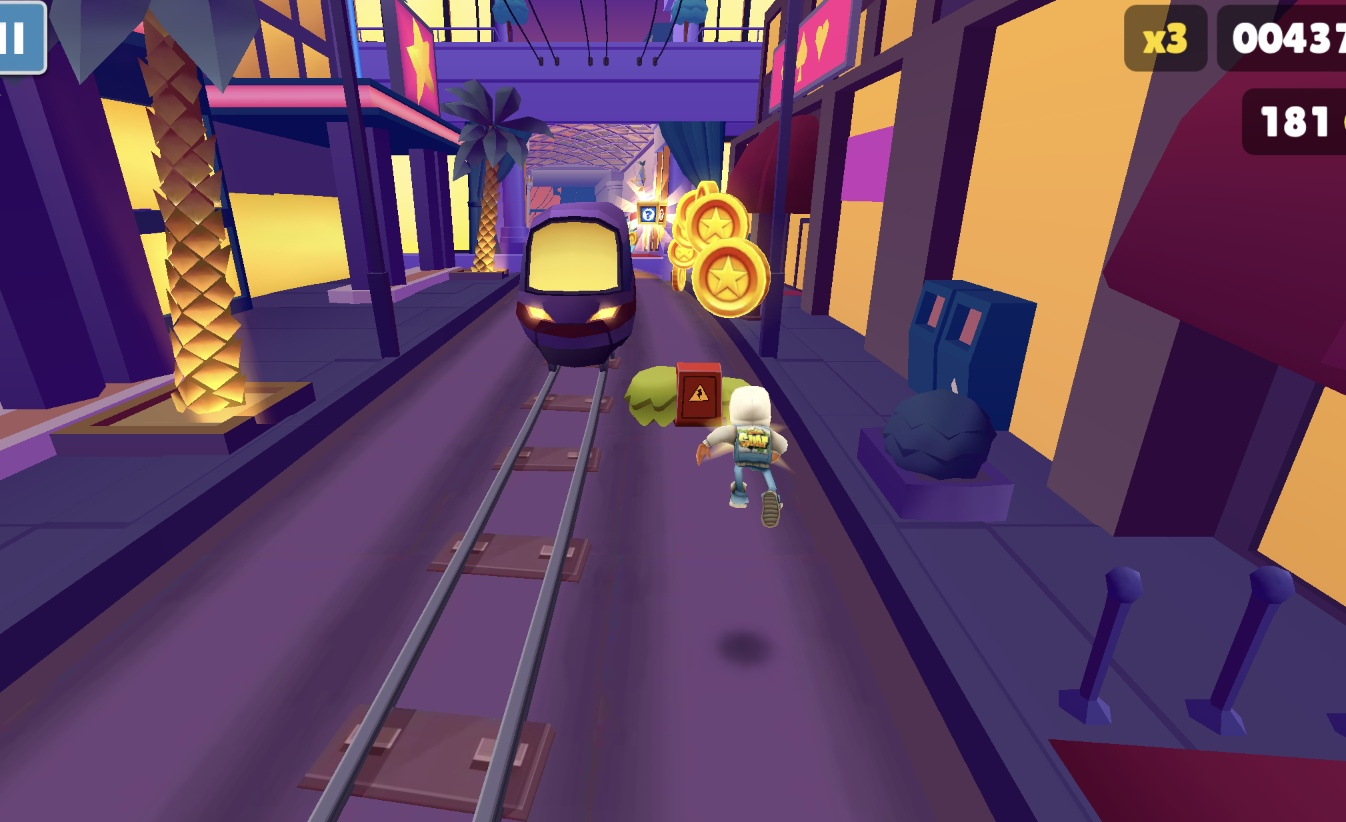bush: (624, 364, 751, 429)
small_obstacle: (675, 362, 724, 429)
train: (513, 200, 640, 370)
